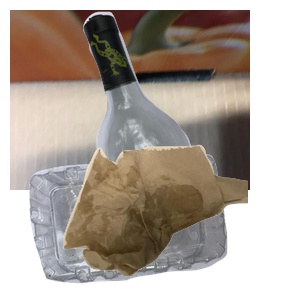cardboard: (10, 10, 250, 190)
glass: (81, 10, 300, 190)
plastic: (27, 152, 247, 300)
trash: (60, 142, 300, 300)
